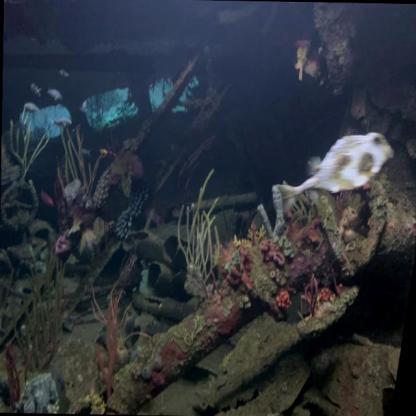fish: (271, 128, 396, 222), (51, 116, 72, 128), (46, 86, 61, 102), (24, 102, 40, 114), (28, 82, 41, 96), (58, 68, 69, 77)
